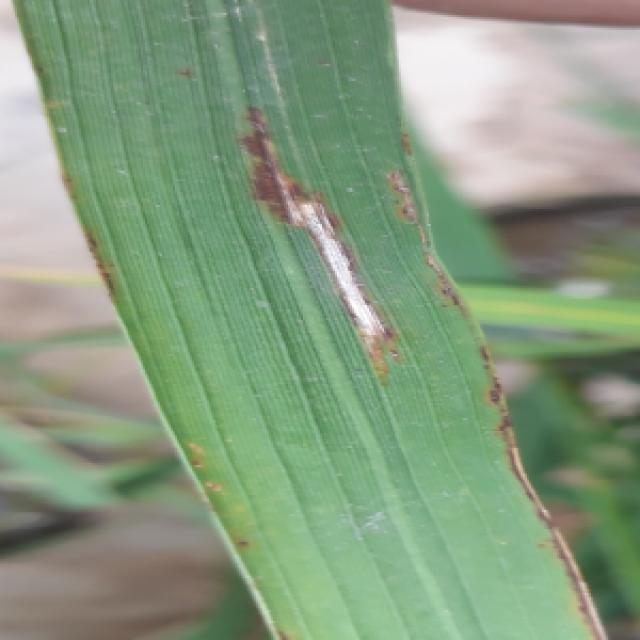Blast: (256, 138, 290, 214), (288, 190, 329, 230), (358, 318, 386, 352), (340, 273, 364, 312), (320, 234, 346, 268)
